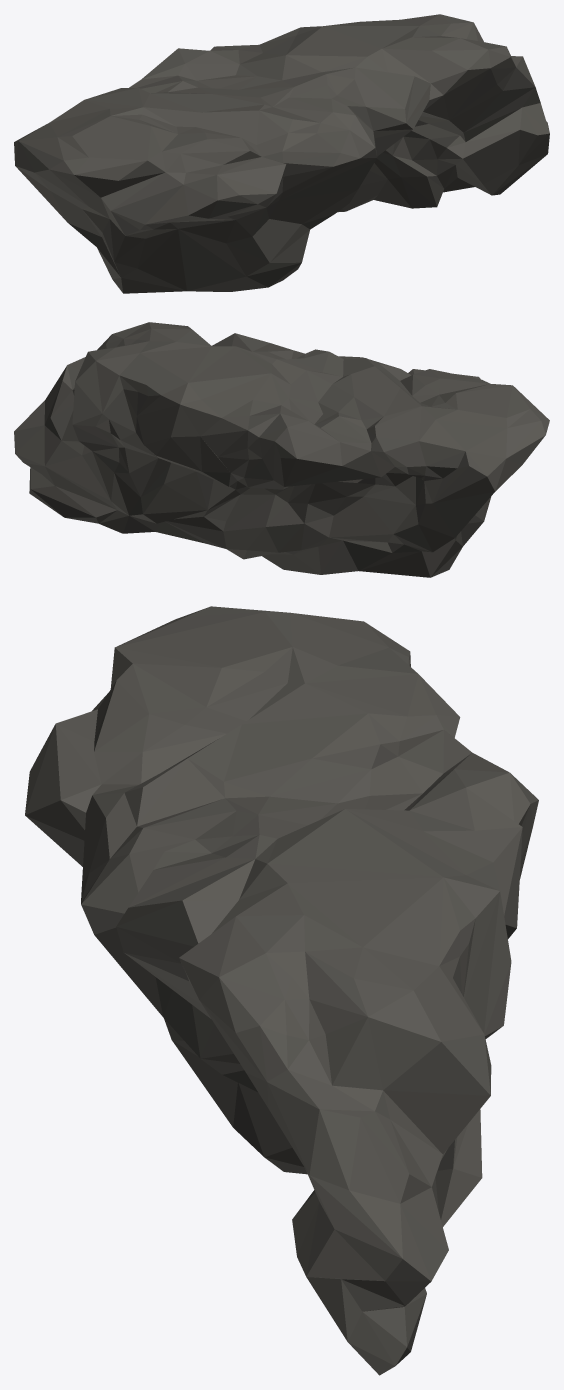
The model's file is rock_01.gltf.
3 renders of one model, top to bottom at view 1: azimuth 30°, elevation 25°; view 2: azimuth 150°, elevation 25°; view 3: azimuth 270°, elevation 25°, orthographic. The views are drawn at different scales.
Parts seen in each view (by area): view 1: rock_01; view 2: rock_01; view 3: rock_01.
Part boxes in pixels (x1=…): rock_01: x1=14, y1=14, x2=549, y2=293; rock_01: x1=14, y1=322, x2=549, y2=577; rock_01: x1=25, y1=606, x2=538, y2=1375.
Size of the model in its own units: 6.21 by 2.33 by 2.83.
Materials: 1 (1 with a texture image).
